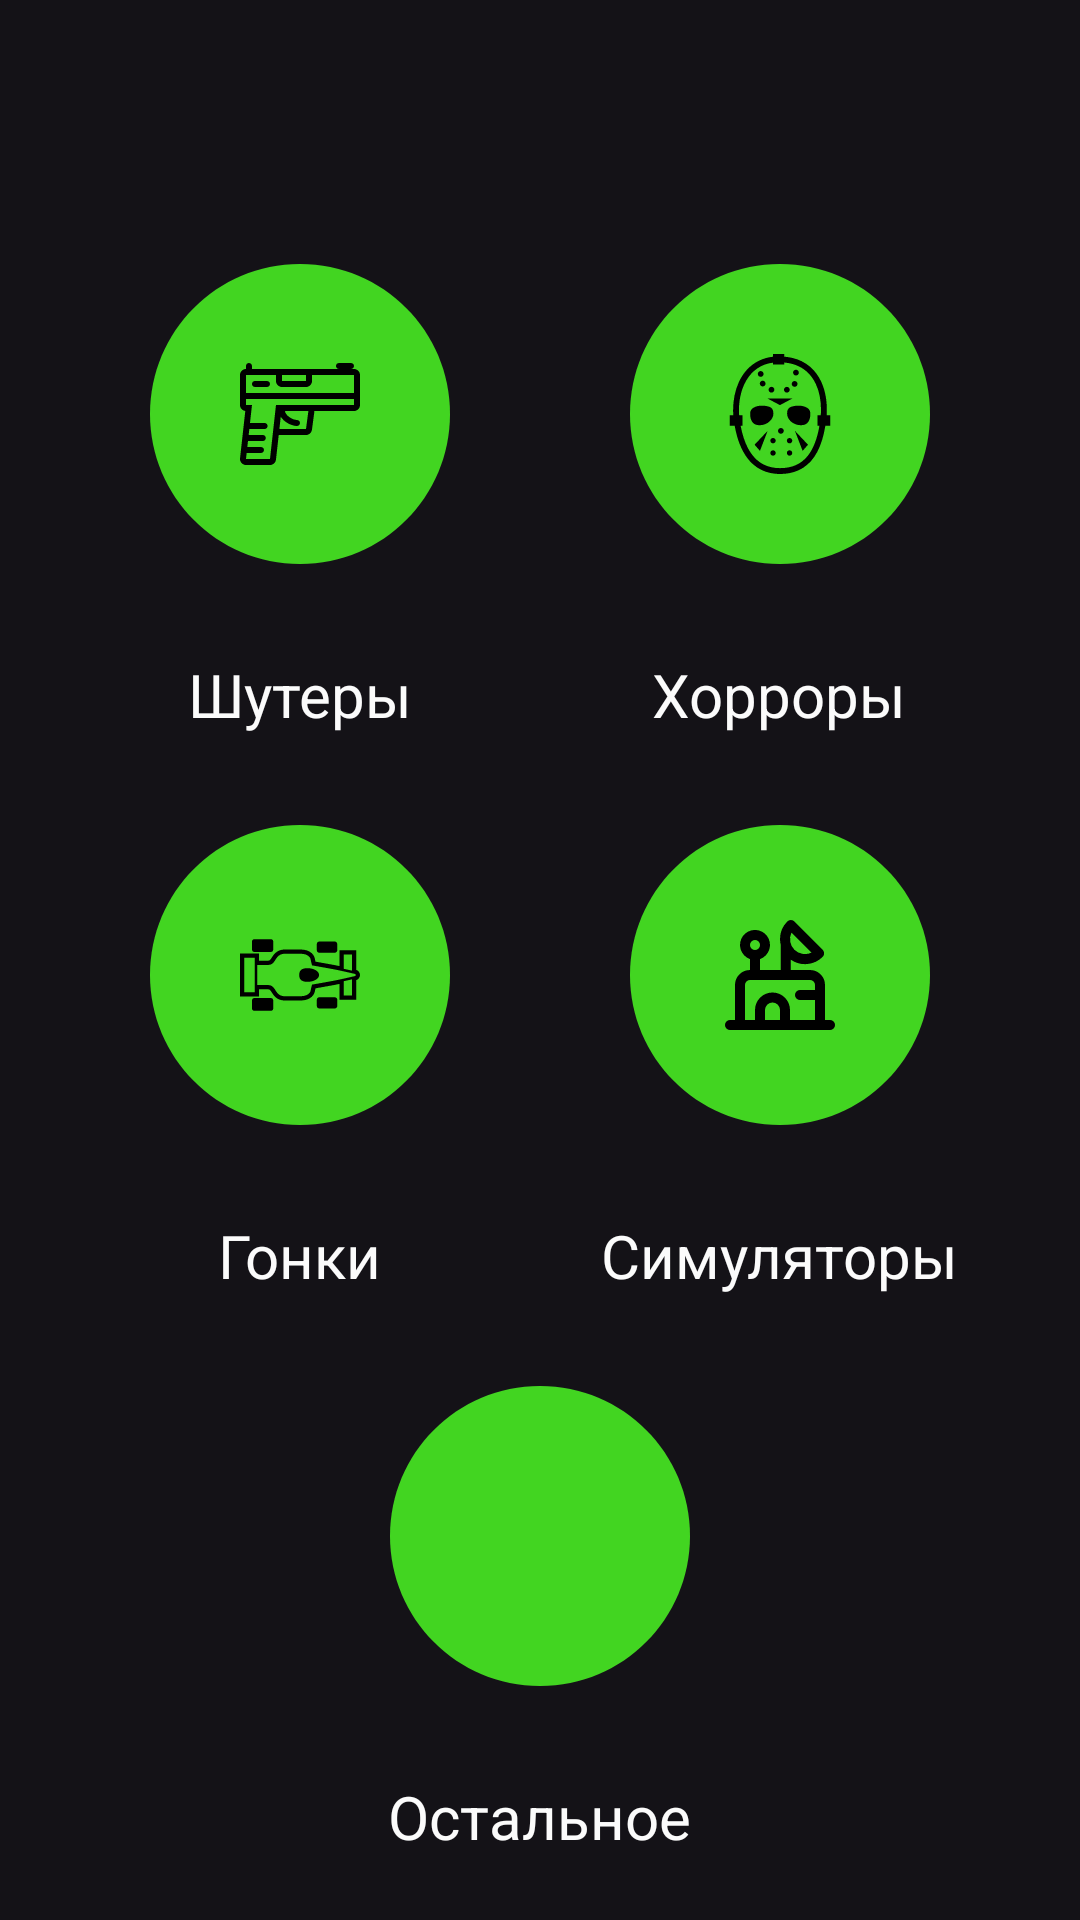

Where to tap for icons on this 1080px x 1920px app screen, as point (x, y):
horror: point (780, 414)
races: point (300, 975)
shooters: point (300, 414)
